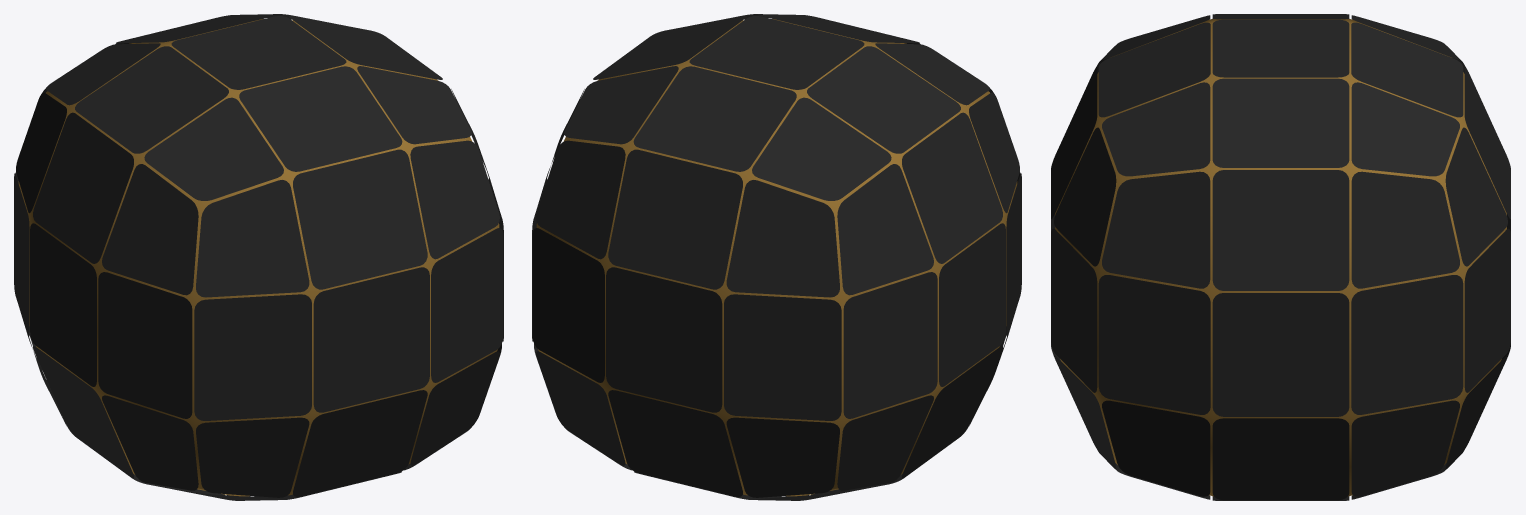
Rendered from cubo-sfera protonazistaV3.fbx.
3 views of the same model, side by side, from view 1: azimuth 30°, elevation 25°; view 2: azimuth 150°, elevation 25°; view 3: azimuth 270°, elevation 25° (orthographic). The views are drawn at different scales.
Parts seen in each view (by area): view 1: cubo-sfera protonazista.001; view 2: cubo-sfera protonazista.001; view 3: cubo-sfera protonazista.001.
Boxes of the visible parts, x1,y1,x2,y2 form: cubo-sfera protonazista.001: [14, 14, 503, 500]; cubo-sfera protonazista.001: [532, 14, 1021, 500]; cubo-sfera protonazista.001: [1051, 14, 1510, 500].
Bounding box in the file's own units: 200 × 200 × 200.
